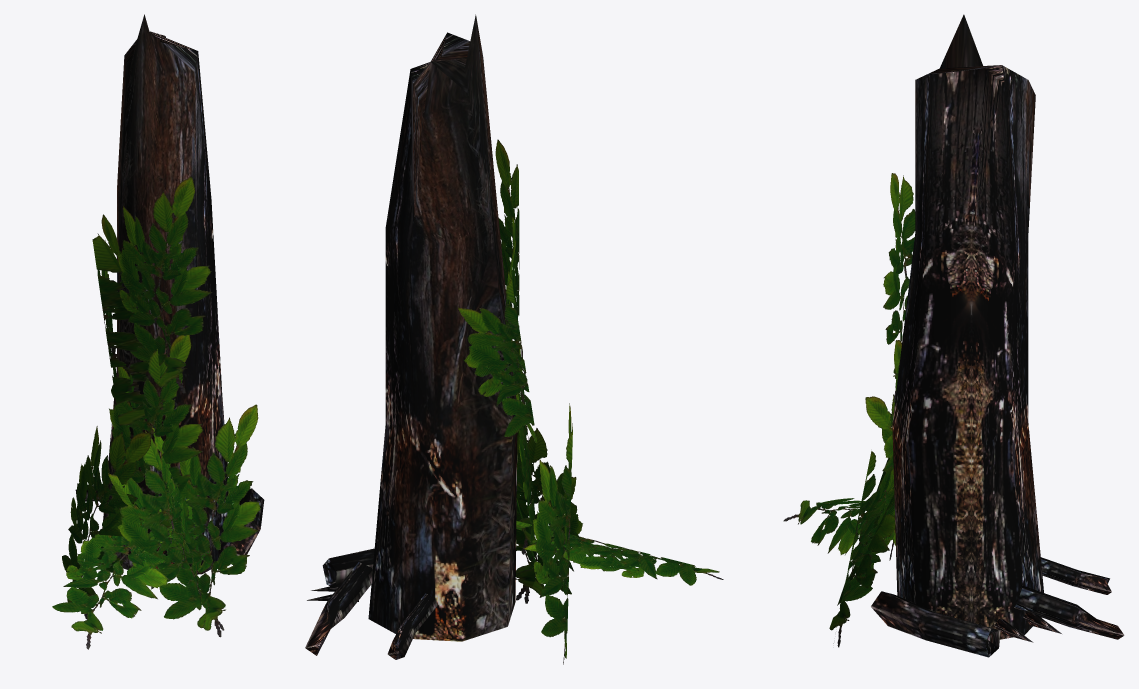
The model's file is burned.dae.
The picture shows the model from 3 angles, left to right: view 1: azimuth 30°, elevation 25°; view 2: azimuth 150°, elevation 25°; view 3: azimuth 270°, elevation 25°; orthographic projection. The views are drawn at different scales.
Visible parts, largest first — view 1: Cube; view 2: Cube; view 3: Cube.
Boxes of the visible parts, left/top/right/bottom form: Cube: left=52, top=14, right=264, bottom=649; Cube: left=305, top=14, right=723, bottom=664; Cube: left=783, top=14, right=1124, bottom=657.
Bounding box in the file's own units: 2.53 × 2.41 × 4.64.
1 material, 1 textured.
